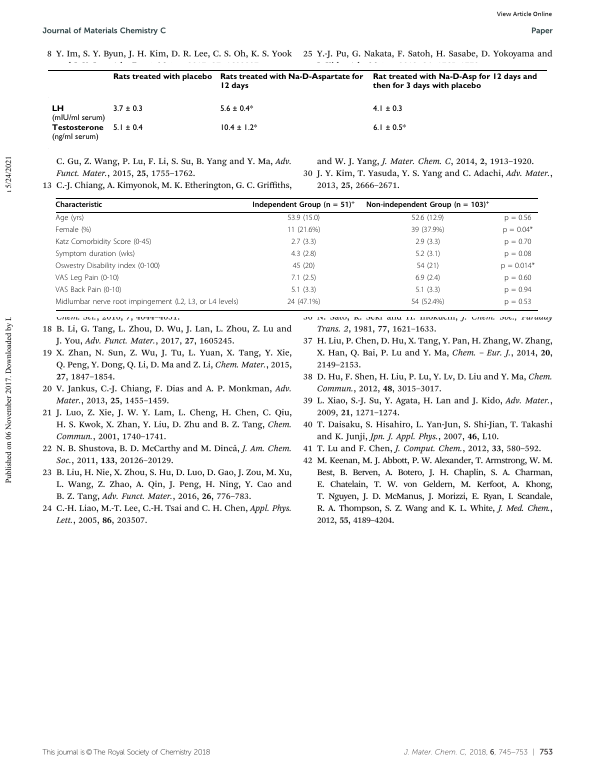borderless: (54, 197, 538, 310), (46, 68, 548, 150)
cell: (372, 73, 537, 91), (219, 73, 364, 91), (55, 298, 239, 307), (365, 199, 490, 210), (252, 199, 356, 210), (50, 104, 106, 123), (55, 262, 161, 272), (50, 124, 104, 142), (55, 238, 152, 248), (112, 73, 213, 82), (55, 250, 136, 260), (55, 286, 122, 295), (55, 274, 120, 283), (55, 201, 103, 210), (219, 123, 258, 133), (55, 226, 92, 236), (500, 262, 536, 272), (286, 214, 321, 224), (286, 226, 321, 236), (410, 226, 445, 236), (219, 104, 254, 114), (411, 214, 445, 224), (372, 123, 406, 133), (502, 226, 534, 236), (286, 298, 321, 307), (410, 298, 445, 307), (112, 104, 143, 114), (372, 104, 403, 114), (112, 123, 143, 133), (55, 214, 85, 224), (503, 214, 532, 224), (503, 238, 532, 248), (503, 250, 532, 260), (290, 238, 317, 248), (414, 238, 441, 248), (290, 250, 317, 260), (414, 250, 441, 260), (503, 274, 532, 283), (503, 286, 532, 295), (503, 298, 532, 307), (290, 274, 317, 283), (414, 274, 441, 283), (290, 286, 317, 295), (414, 286, 441, 295), (292, 262, 316, 272), (416, 262, 440, 272)
